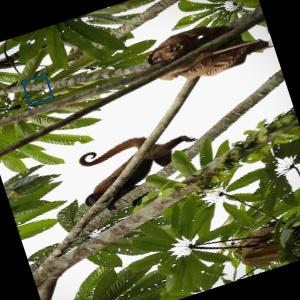square: (19, 72, 56, 109)
